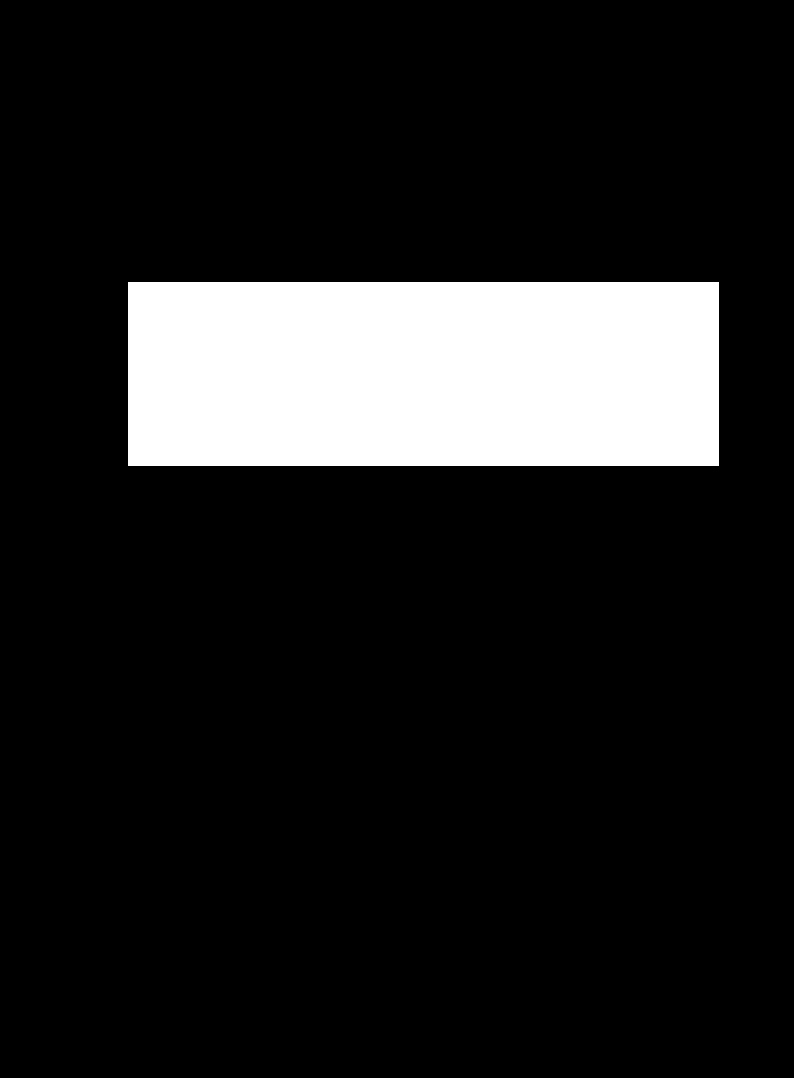table: (128, 282, 718, 465)
